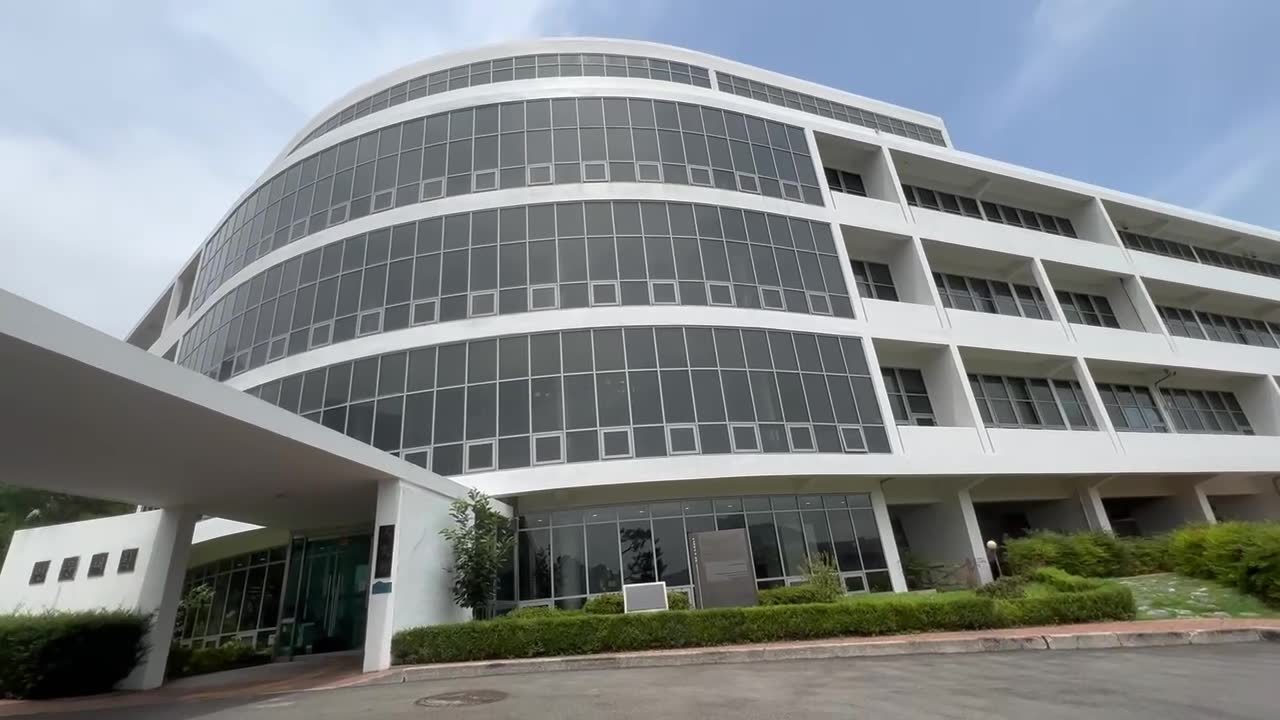medium: (371, 31, 1177, 518)
